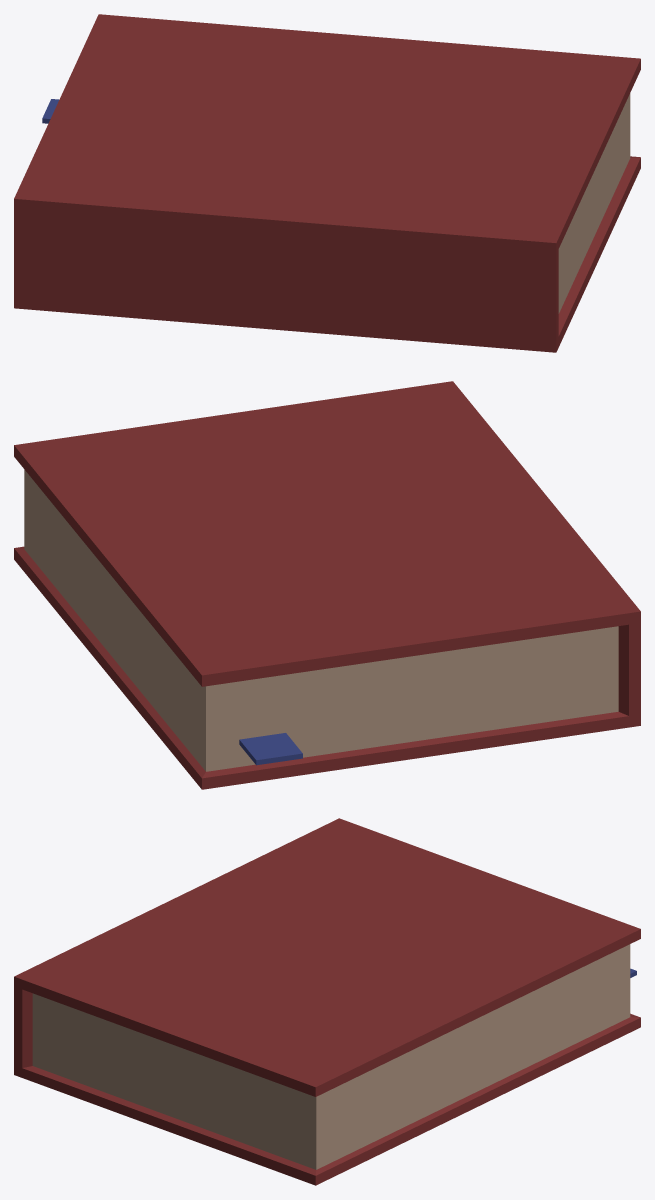
File: Book_7.fbx
3 views of the same model, one above another, from view 1: azimuth 30°, elevation 25°; view 2: azimuth 150°, elevation 25°; view 3: azimuth 270°, elevation 25° (orthographic). The views are drawn at different scales.
Visible parts, largest first — view 1: Book_7; view 2: Book_7; view 3: Book_7.
Part boxes in pixels (x1=…): Book_7: x1=14, y1=14, x2=640, y2=352; Book_7: x1=14, y1=381, x2=640, y2=789; Book_7: x1=14, y1=818, x2=640, y2=1185.
Bounding box in the file's own units: 42.64 × 42 × 7.27.
